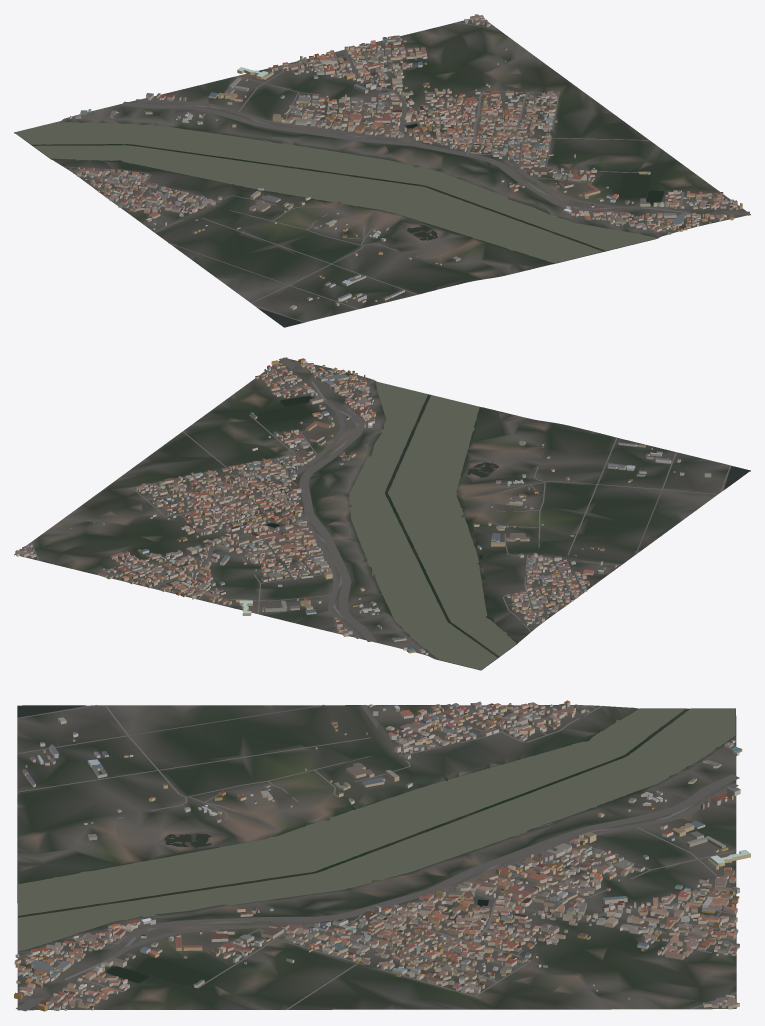
3 views of the same model, one above another, from view 1: azimuth 30°, elevation 25°; view 2: azimuth 150°, elevation 25°; view 3: azimuth 270°, elevation 25° (orthographic). The views are drawn at different scales.
Parts seen in each view (by area): view 1: ground, water, buildings, roads; view 2: ground, water, buildings, roads; view 3: ground, water, buildings, roads.
Boxes of the visible parts, left/top/right/bottom form: ground: left=14, top=19, right=750, bottom=327; water: left=15, top=122, right=664, bottom=326; buildings: left=70, top=14, right=742, bottom=310; roads: left=64, top=22, right=749, bottom=322; ground: left=14, top=357, right=750, bottom=670; water: left=257, top=381, right=749, bottom=669; buildings: left=15, top=358, right=711, bottom=654; roads: left=30, top=357, right=731, bottom=641; ground: left=17, top=705, right=736, bottom=1010; water: left=17, top=705, right=735, bottom=985; buildings: left=14, top=700, right=750, bottom=1011; roads: left=16, top=705, right=739, bottom=1011.
Bounding box in the file's own units: 1410 × 22.28 × 1437.
